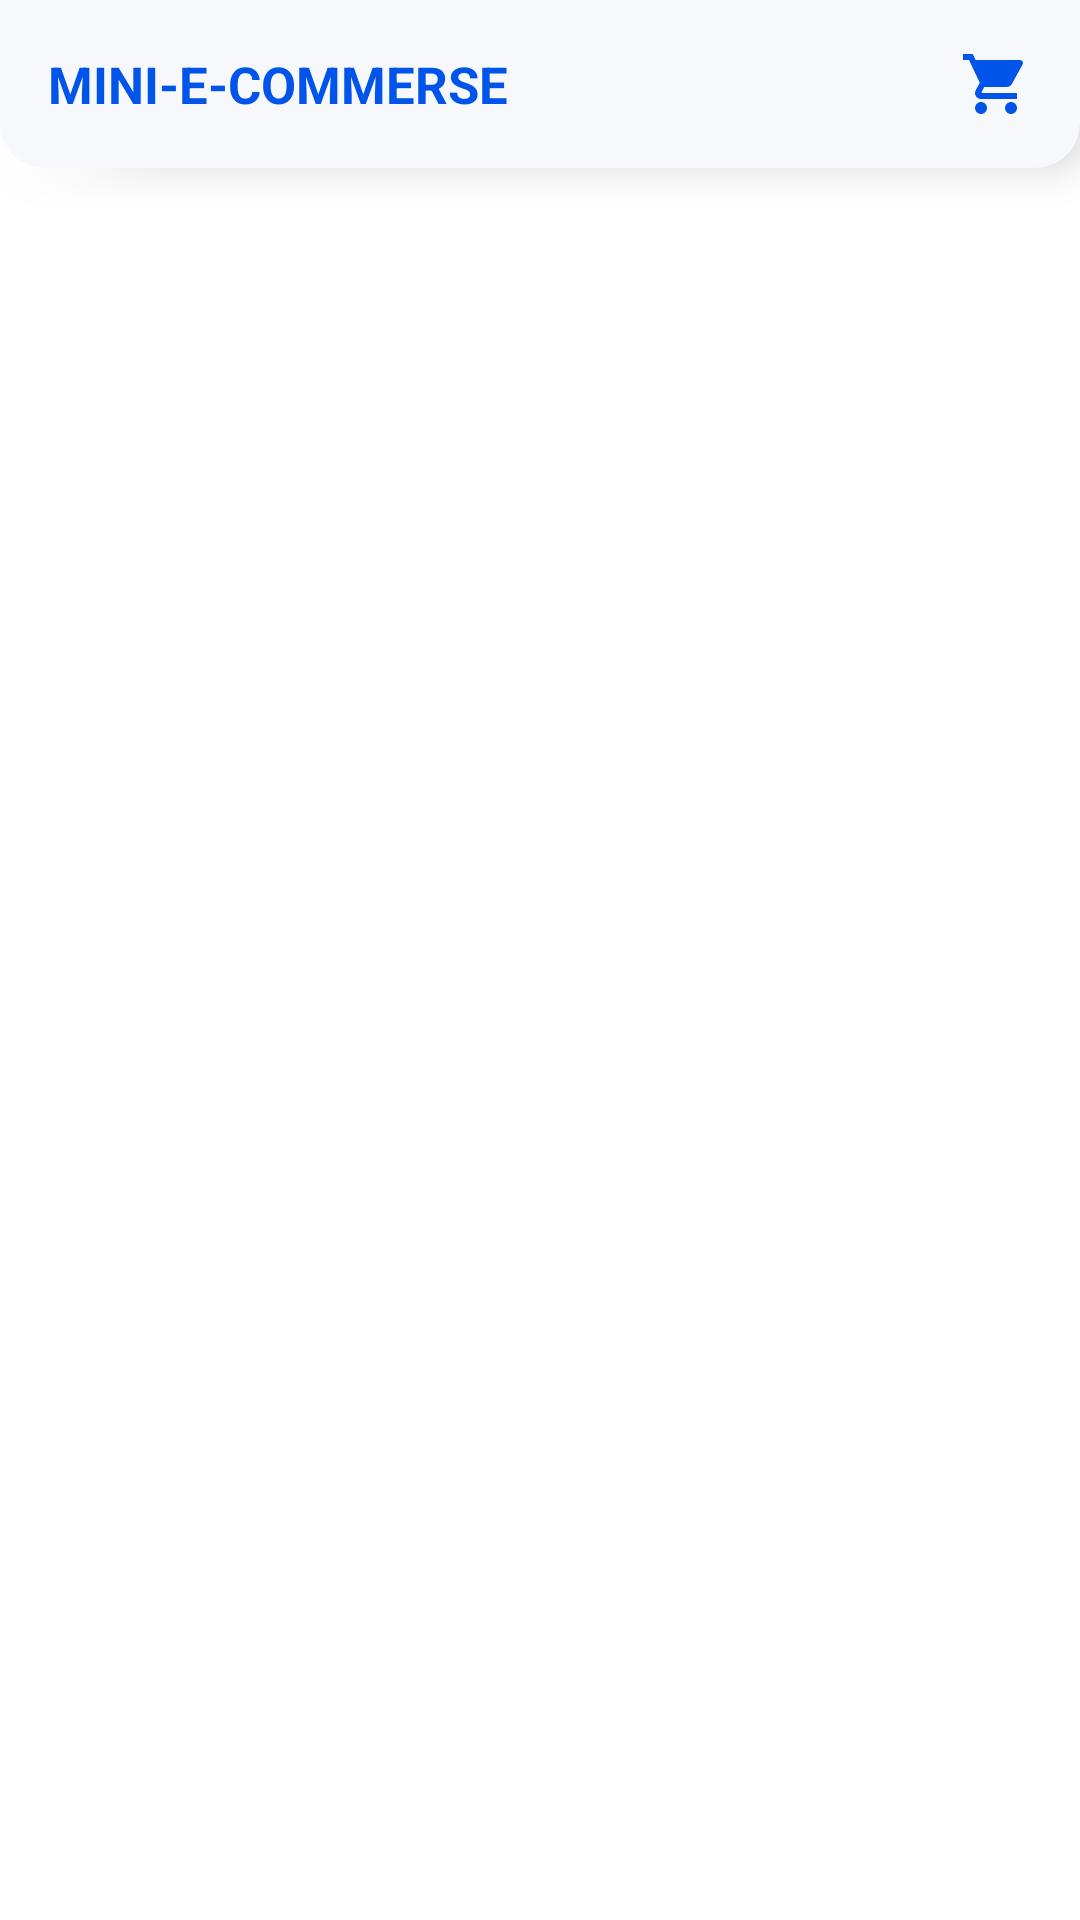

Named icons in this screenshot (1080 x 1920) and their bounding boxes, bbox=(x1, y1, x2, y2):
cart: bbox=(963, 54, 1023, 114)
